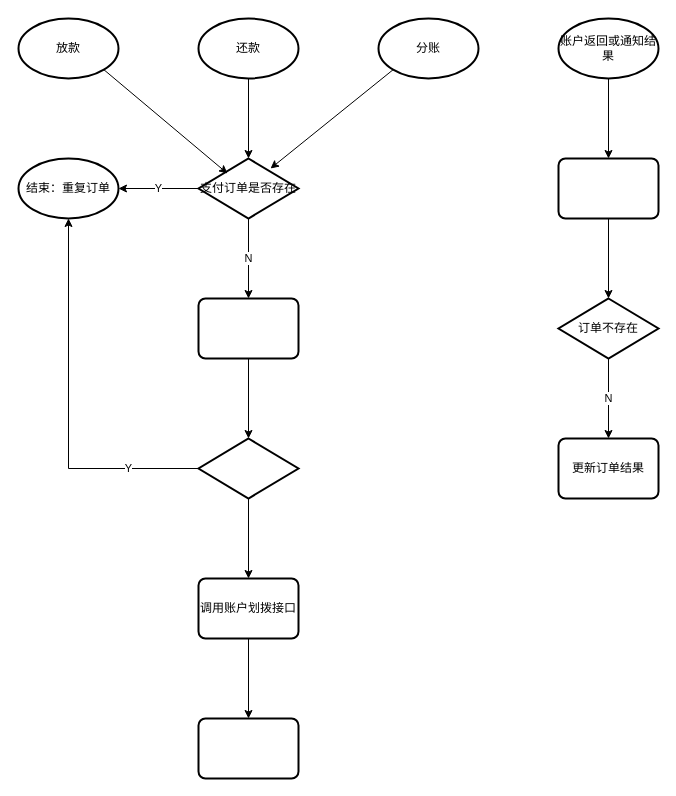
The diagram is 676 pixels wide and 796 high, and some of its shapes have lost their labels. Each missing label, with the centre of its shape:
"Duplicate KeyException" belongs at (248,468).
"更新支付订单状态 返回支付订单号，支付结果" belongs at (248,748).
"查询交易订单" belongs at (608,188).
"组织交易数据插入数据库" belongs at (248,328).
